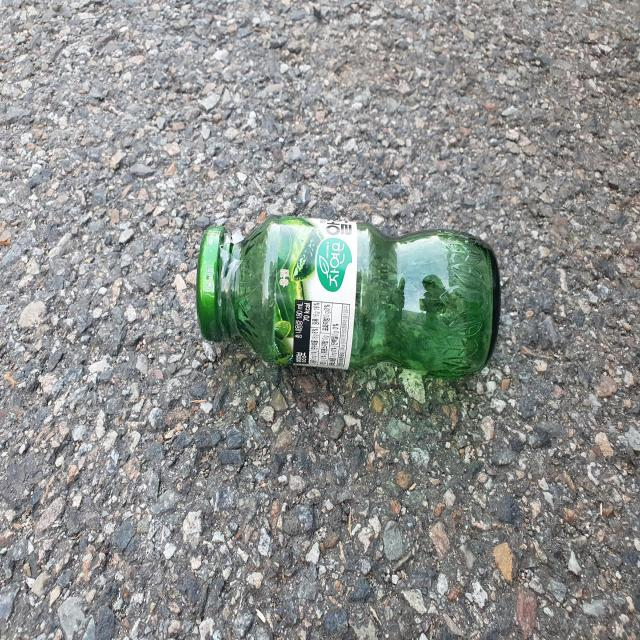glass: (197, 216, 501, 378)
